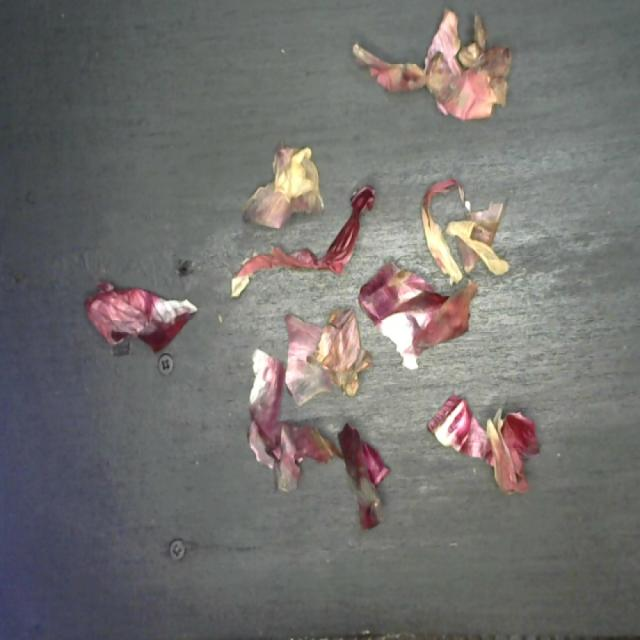biodegradable: (78, 0, 547, 534)
